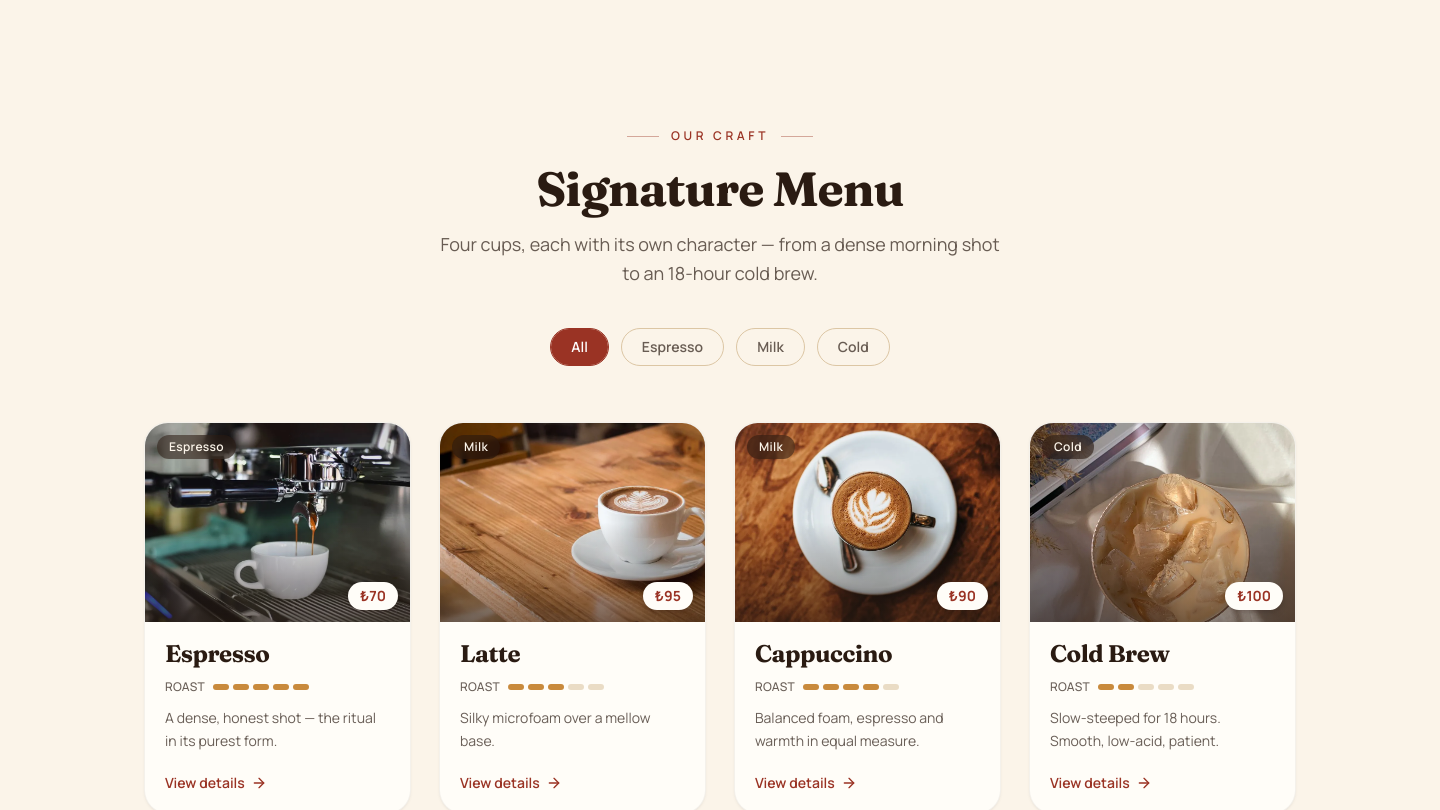
modal: detay açılır (role=dialog) ve Esc ile kapanır
Click the button "View details" below "₺70" at (216, 783), box [165,773,267,793]
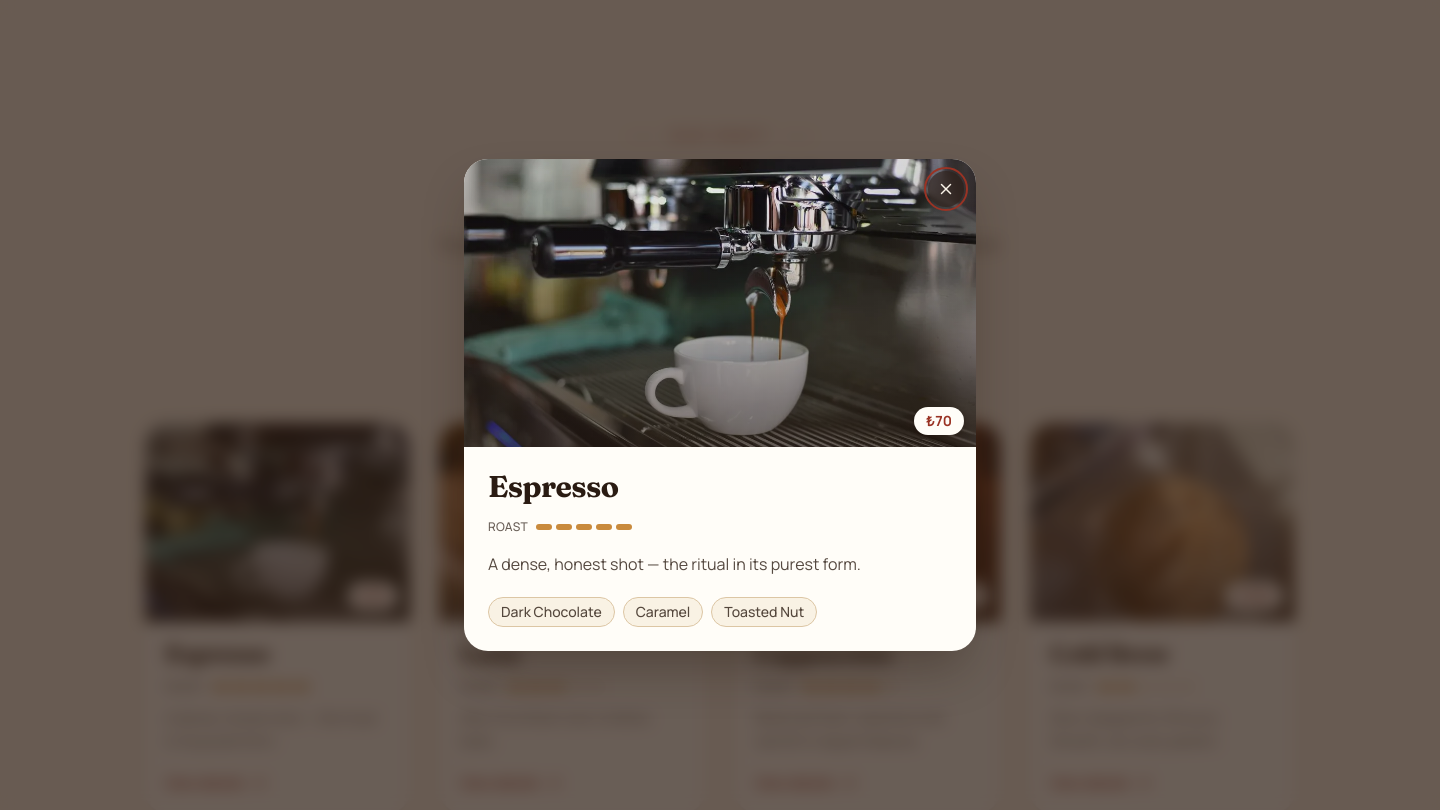
Expected: the dialog is shown, [464,159,976,651]
# Esc tuşuna bas. Dinleyici document üzerinde (DetailModal useEffect) → document'a gönder.
Press Escape
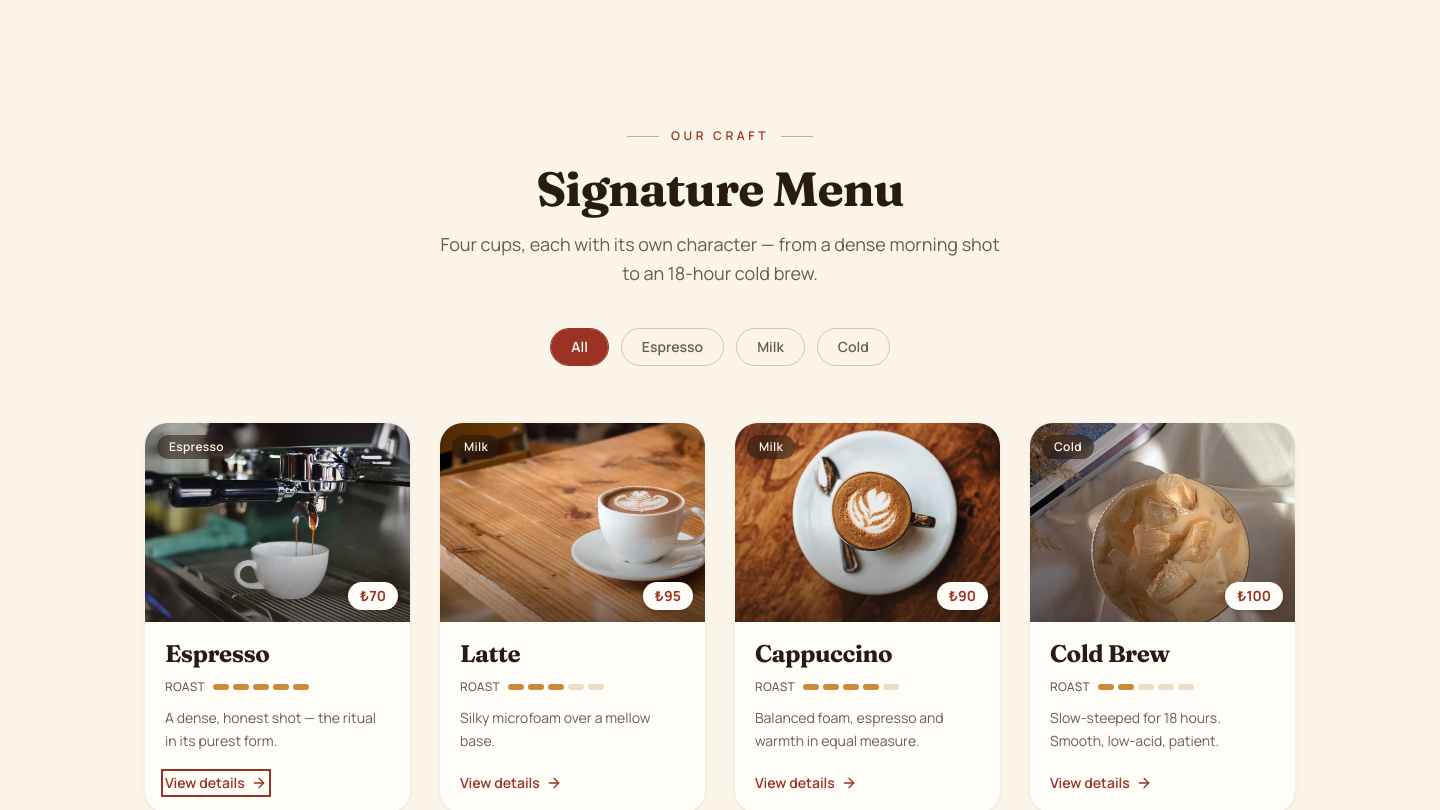
Expected: the dialog is gone
